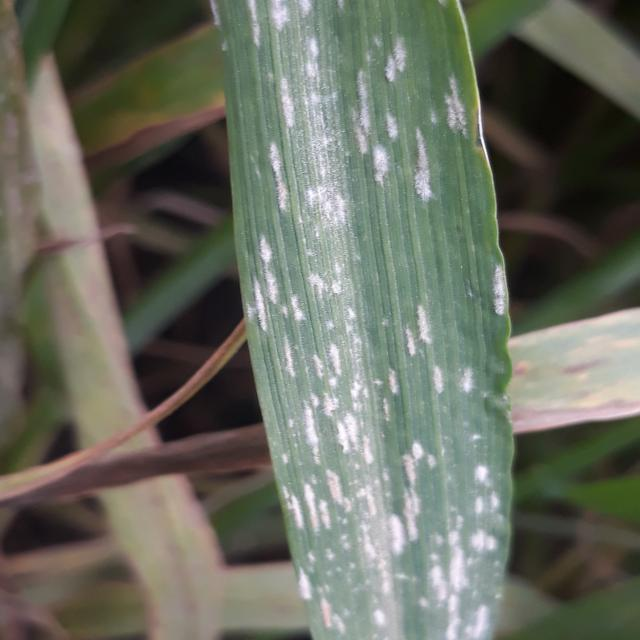powder_mildew: (209, 3, 525, 640), (0, 84, 147, 429), (48, 479, 204, 640), (504, 307, 639, 433)
